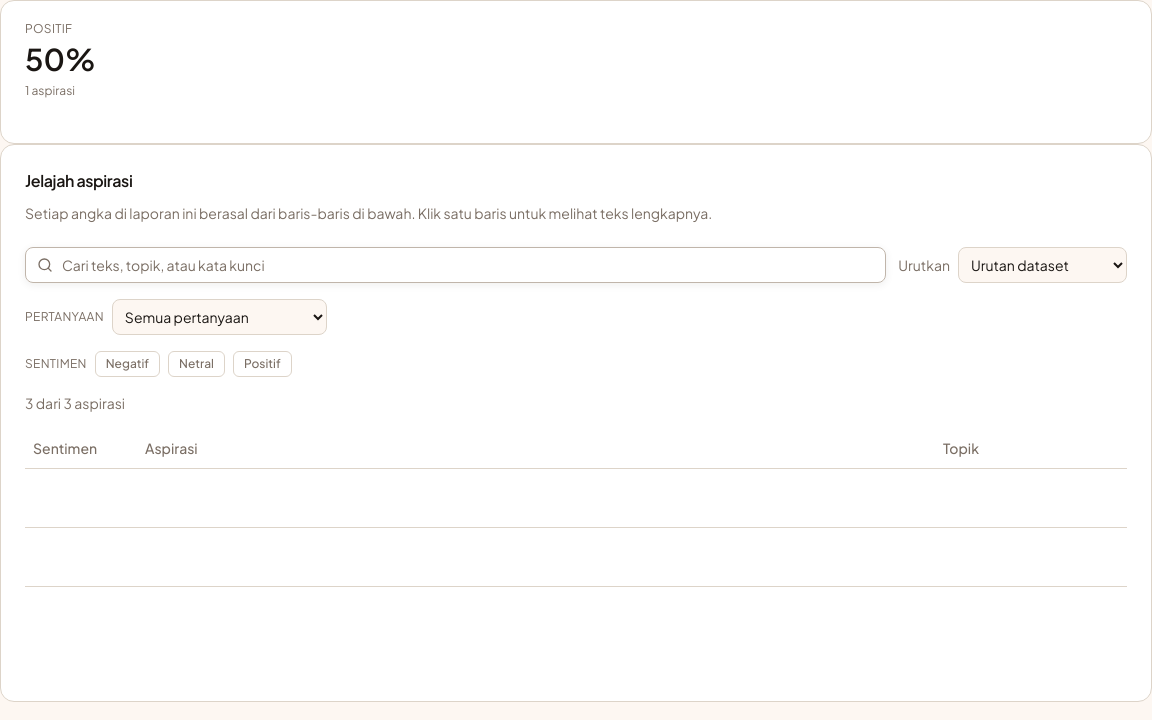
Scenario: evidence-first wiring across questions › lets the reader pick a question, and go back to all of them
The width and height of the screenshot is (1152, 720).
Step 1. Select "Apa yang paling berkesan?" in the dropdown labelled "Pertanyaan" → coordinates (219, 316), box [112, 298, 327, 334]
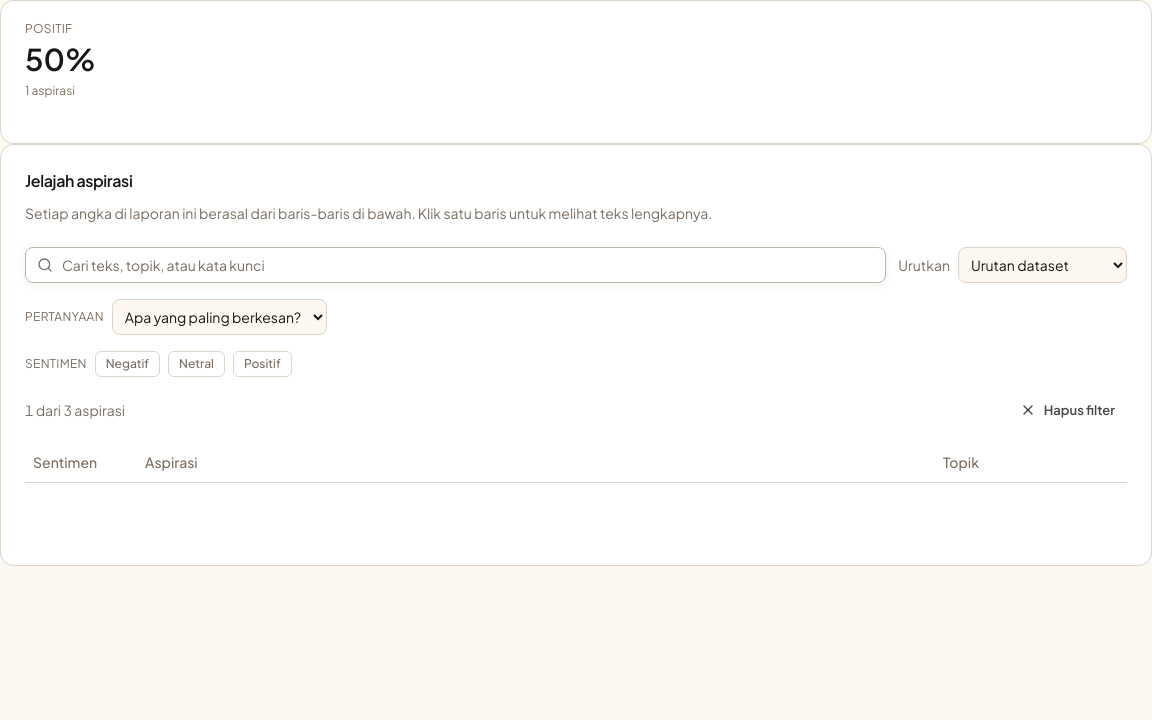
expect the text "1 dari 3 aspirasi" is shown: met, box [25, 400, 125, 420]
Step 2. Select "Semua pertanyaan" in the dropdown labelled "Pertanyaan" → coordinates (219, 316), box [112, 298, 327, 334]
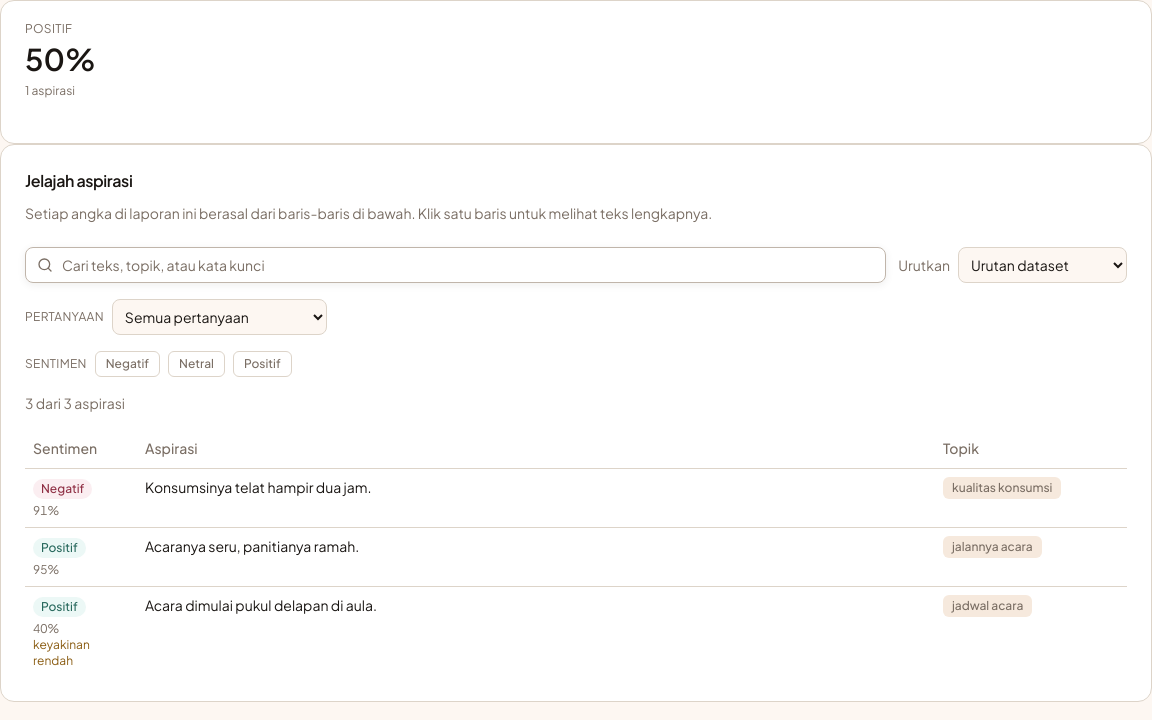
expect the text "3 dari 3 aspirasi" is shown: met, box [25, 392, 125, 412]
